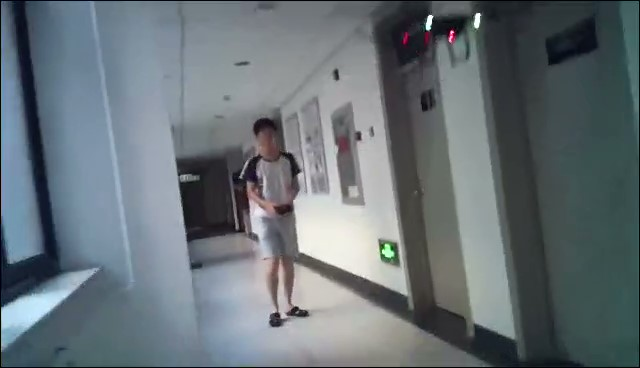drone: (367, 6, 517, 79)
person: (239, 119, 322, 329)
